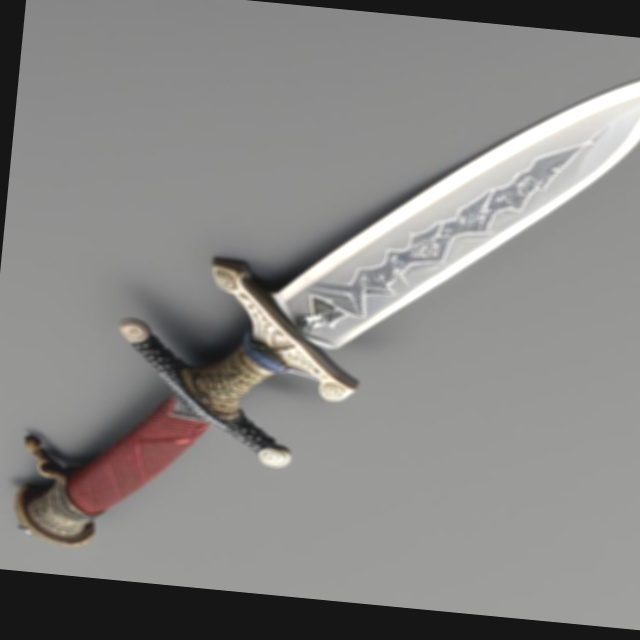Sharp-Object: (5, 1, 640, 606)
